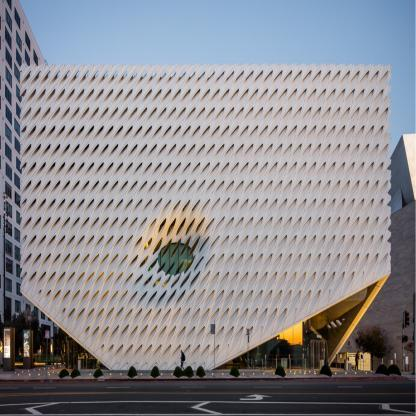Building Outline: (19, 63, 392, 370)
Decorative Shell: (19, 63, 392, 370)
Dont: (173, 365, 206, 378), (210, 320, 215, 376), (127, 365, 138, 378), (229, 365, 240, 378), (179, 349, 185, 371), (275, 365, 286, 377), (150, 365, 160, 378), (93, 369, 104, 379), (247, 329, 249, 376)
Door: (311, 341, 327, 369)
Facade: (66, 64, 329, 369)
Floor: (25, 226, 387, 303)
Floor Slab: (25, 219, 387, 226), (40, 303, 367, 310)
Glass Wall: (25, 226, 387, 303), (66, 310, 329, 369)
Ground Floor: (66, 310, 329, 369)
Top Floor: (25, 71, 387, 219)
